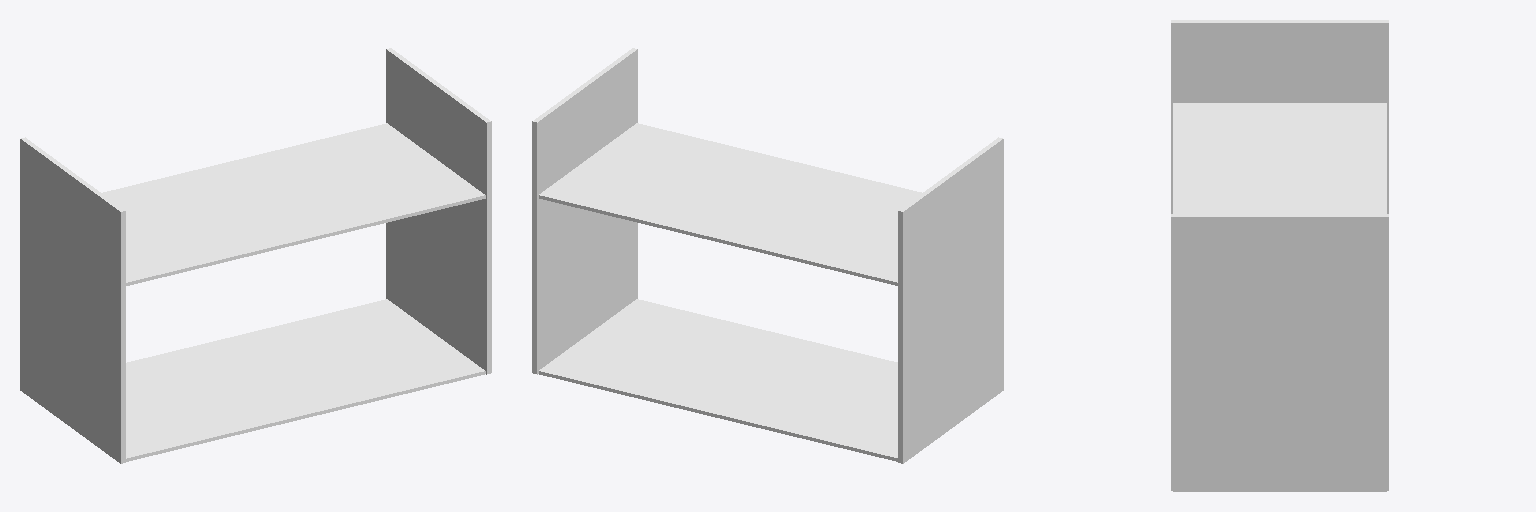
robot.urdf — shelf2.urdf:
<?xml version="0.0" ?>
<robot name="shelf2.urdf">
  <link concave="yes" name="base_link">
    <inertial>
      <mass value="0.0"/>
      <inertia ixx="0" ixy="0" ixz="0" iyy="0" iyz="0" izz="0"/>
    </inertial>
    <visual>
      <origin rpy="1.5707963 0 0"/>
      <geometry>
        <mesh filename="shelf2.obj" scale="0.009 0.006 0.009"/>
      </geometry>
      <material name="white">
        <color rgba="1 1 1 1"/>
      </material>
    </visual>
    <collision concave="yes">
      <origin rpy="1.5707963 0 0"/>
      <geometry>
        <mesh filename="shelf2.obj" scale="0.009 0.006 0.009"/>
      </geometry>
    </collision>
    <contact>
      <lateral_friction value="1.0"/>
    </contact>
  </link>
</robot>

--- Render facts (derived) ---
Views: 3 orthographic renders of the robot side by side, from view 1: azimuth 30°, elevation 25°; view 2: azimuth 150°, elevation 25°; view 3: azimuth 270°, elevation 25°.
Robot: shelf2.urdf — 1 links, 0 joints (none); root link base_link; default pose: every joint at zero.
Visible links, largest first — view 1: base_link; view 2: base_link; view 3: base_link.
Link boxes in pixels (x1,y1,x2,y2): base_link: [20, 48, 491, 463]; base_link: [532, 48, 1003, 463]; base_link: [1171, 20, 1388, 491].
Size in the robot's own frame: 0.4643 by 0.2178 by 0.3023 metres.
Meshes: 1 distinct files referenced, 1 mesh visuals loaded (1 OBJ).
